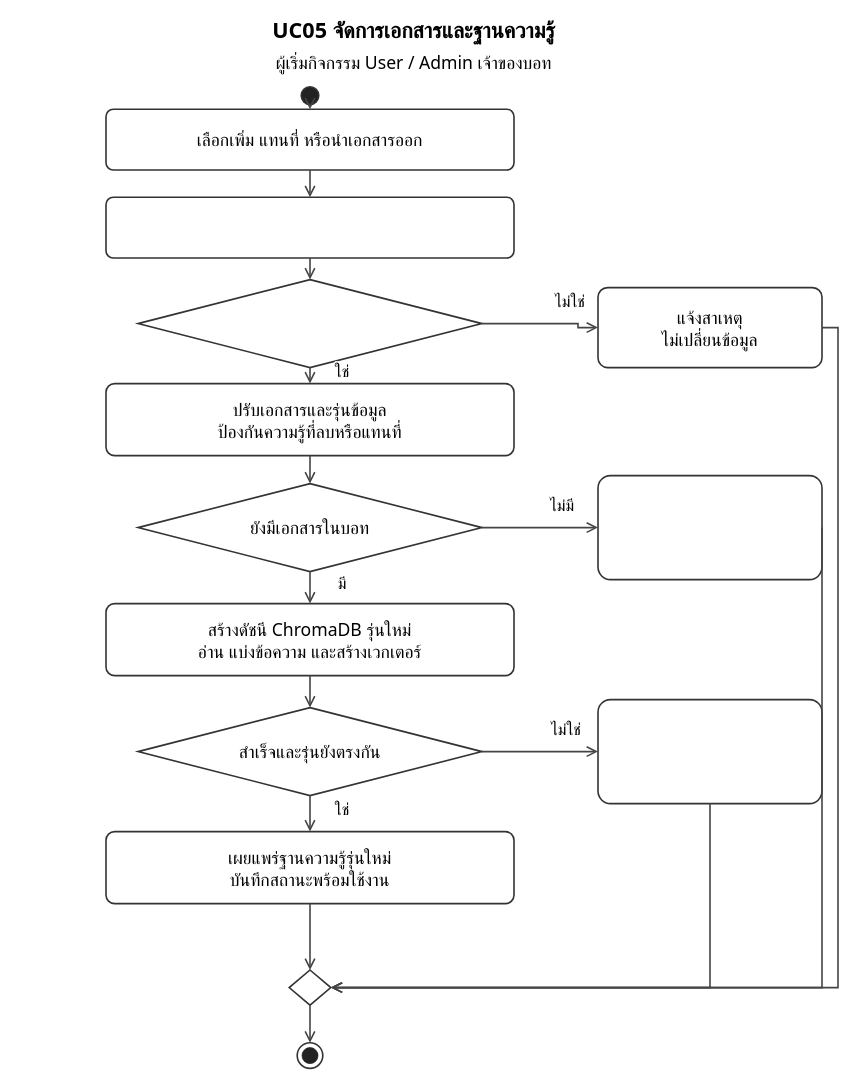
Image size: 862x1082. Some labels were removed from this diagram. Here are the shapes that lost their labels. From the top down, the centre of each, then its label:
At point 309,227: "ตรวจสิทธิ์ ไฟล์ และยืนยันเมื่อจำเป็น".
At point 309,323: "ข้อมูลและคำสั่งผ่านเงื่อนไข".
At point 709,527: "กำหนด inactive ยกเลิก active index ไม่มีการสร้างดัชนีใหม่".
At point 709,751: "ไม่เผยแพร่รุ่นที่ใช้ไม่ได้ แจ้งสถานะผิดพลาด หรือต้องประมวลผลรุ่นล่าสุด".
